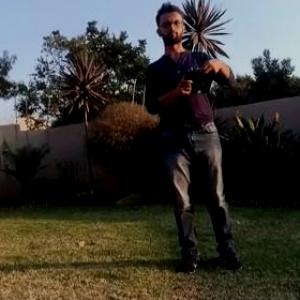follow: (142, 0, 250, 279)
